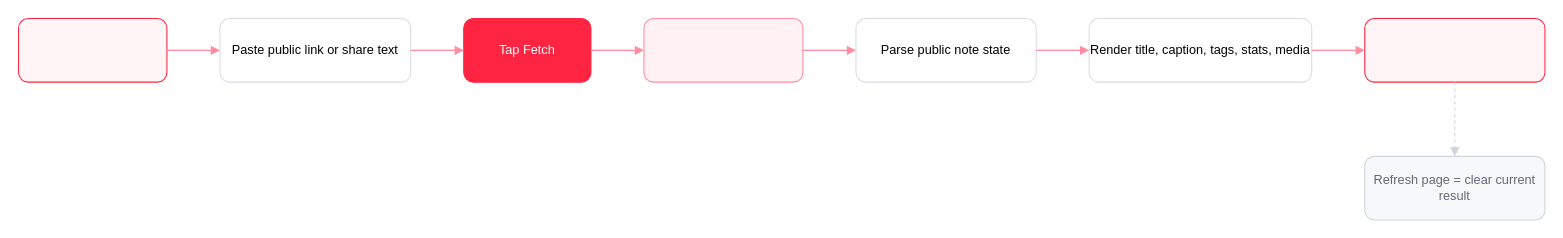
This 1563x238 diagram has some shape labels left out. Here are the shapes that lost their labels. From the top down, the box of each, then its label:
(17, 17, 167, 82): Open mobile page
(643, 17, 803, 82): POST /api/capture
(1364, 17, 1545, 82): Save one item or save all
